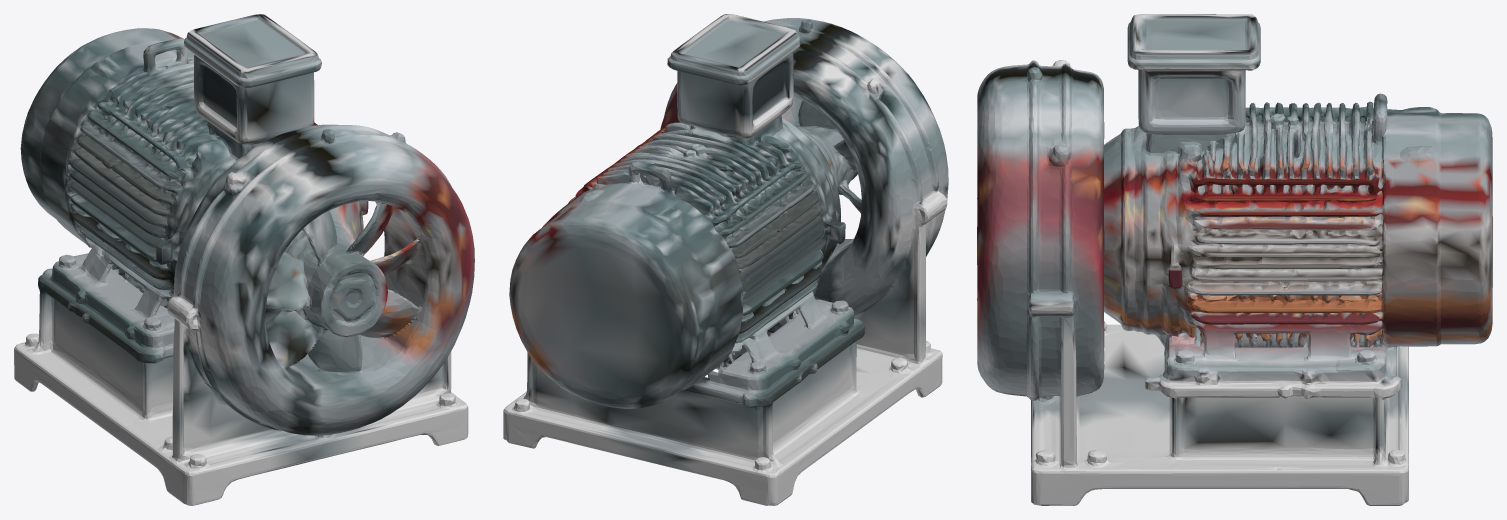
File: machine.glb
3 views of the same model, side by side, from view 1: azimuth 30°, elevation 25°; view 2: azimuth 150°, elevation 25°; view 3: azimuth 270°, elevation 25° (orthographic). The views are drawn at different scales.
Visible parts, largest first — view 1: tmpnikpvts9.ply; view 2: tmpnikpvts9.ply; view 3: tmpnikpvts9.ply.
Boxes of the visible parts, x1=… form: tmpnikpvts9.ply: x1=14, y1=14, x2=474, y2=505; tmpnikpvts9.ply: x1=503, y1=14, x2=948, y2=505; tmpnikpvts9.ply: x1=977, y1=14, x2=1492, y2=505.
Size of the model in its own units: 1.36 by 1.71 by 1.99.
